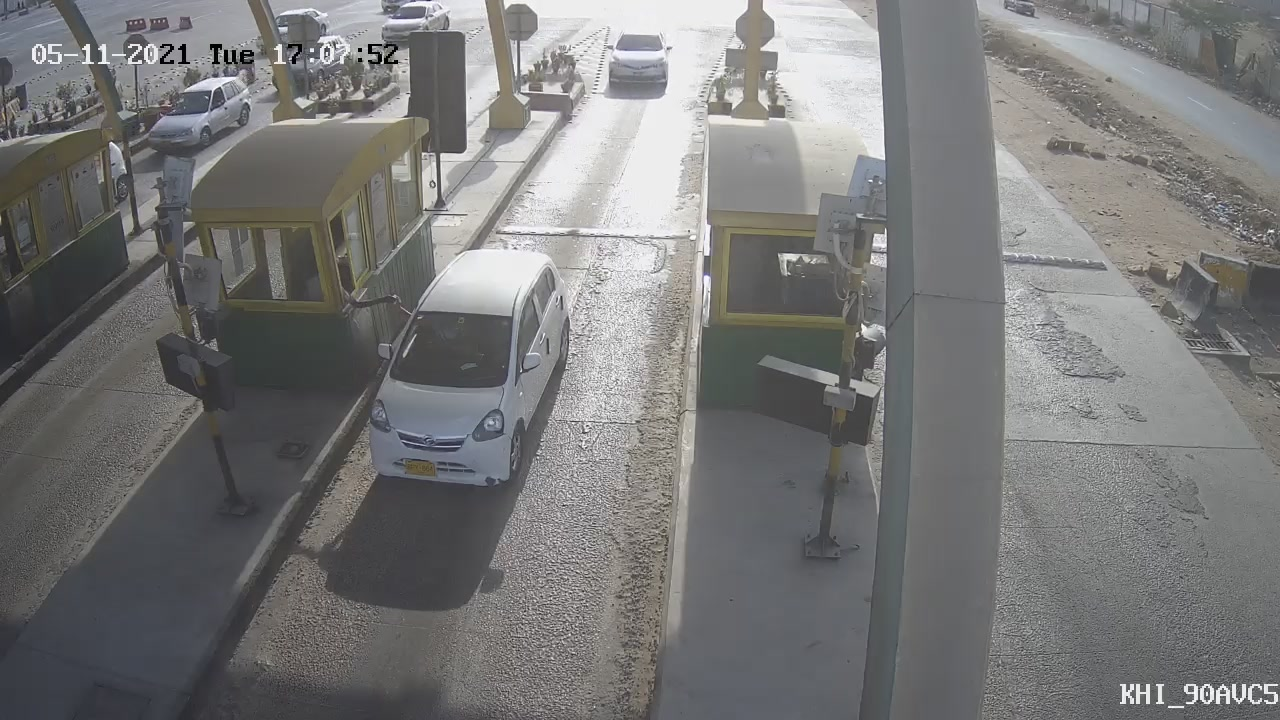F1: (352, 229, 594, 509)
